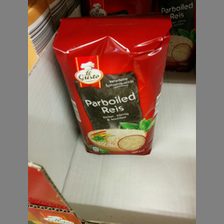rice: (51, 17, 173, 156)
